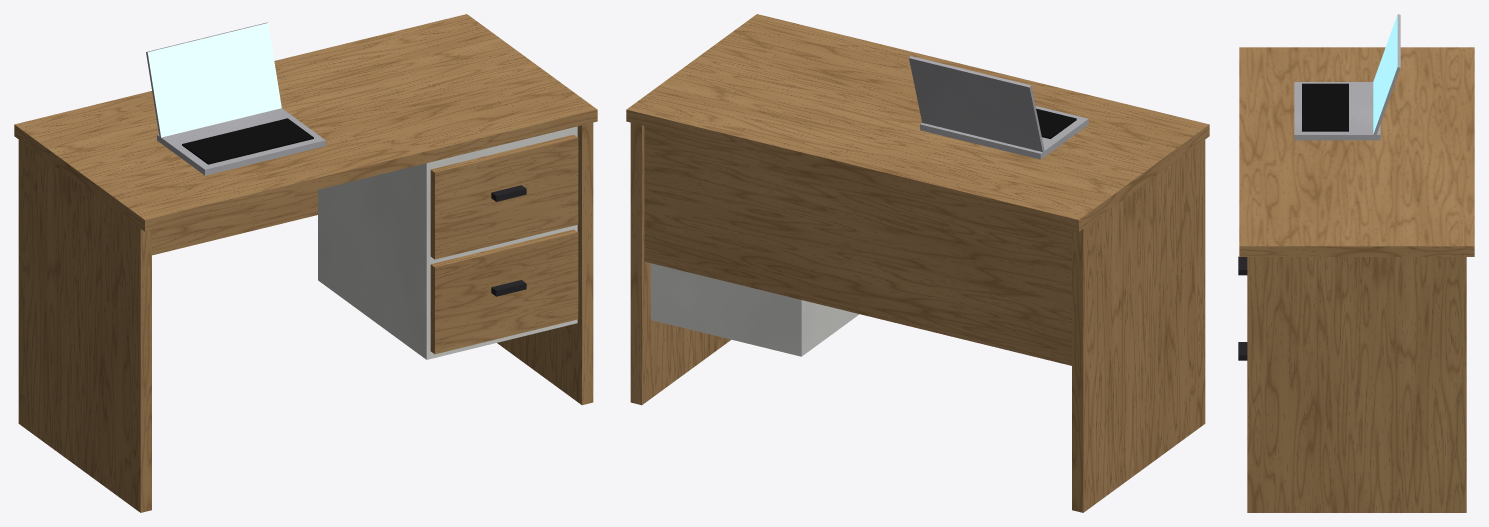
3 views of the same model, side by side, from view 1: azimuth 30°, elevation 25°; view 2: azimuth 150°, elevation 25°; view 3: azimuth 270°, elevation 25° (orthographic). The views are drawn at different scales.
Parts seen in each view (by area): view 1: StudyDesk_Game; view 2: StudyDesk_Game; view 3: StudyDesk_Game.
Boxes of the visible parts, box(x1,y1,x2,y2) form: StudyDesk_Game: box(14, 14, 597, 512); StudyDesk_Game: box(626, 14, 1209, 512); StudyDesk_Game: box(1238, 14, 1474, 512).
Bounding box in the file's own units: 1.2 × 0.9561 × 0.6025.
Materials: 6 (5 with a texture image).
